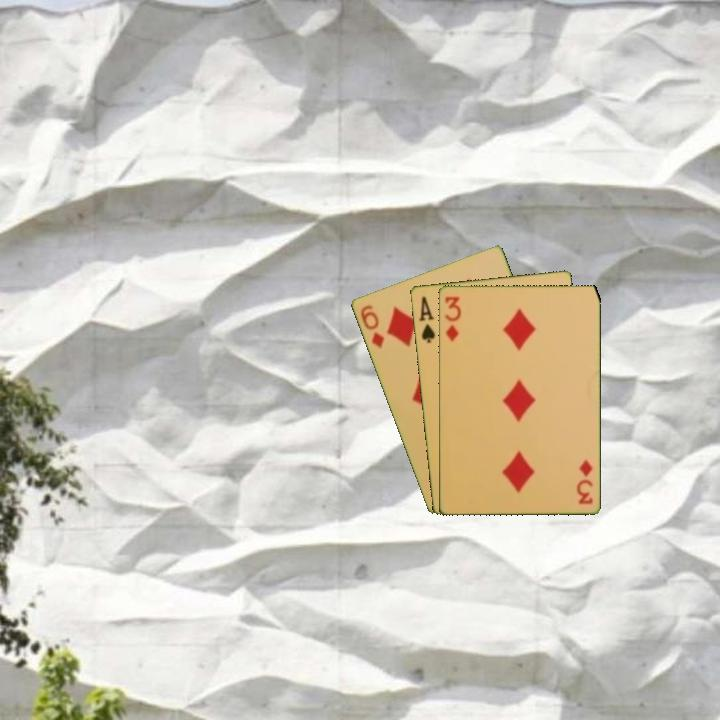3d: (441, 293, 464, 344), (574, 456, 595, 507)
6d: (357, 301, 387, 351)
As: (415, 292, 438, 346)
